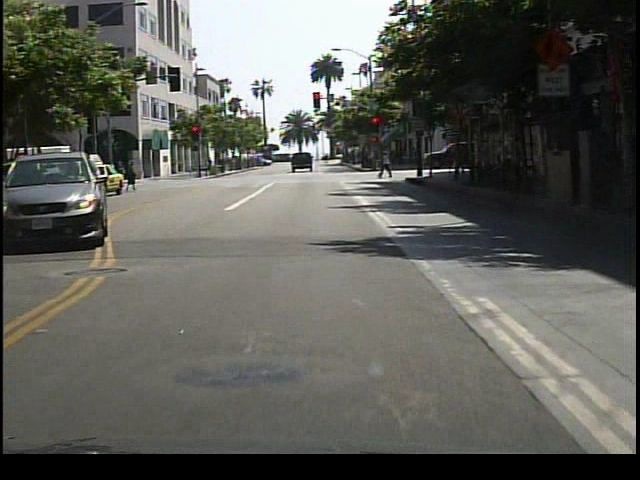person: (378, 149, 394, 179), (126, 158, 139, 193), (409, 145, 424, 175)
